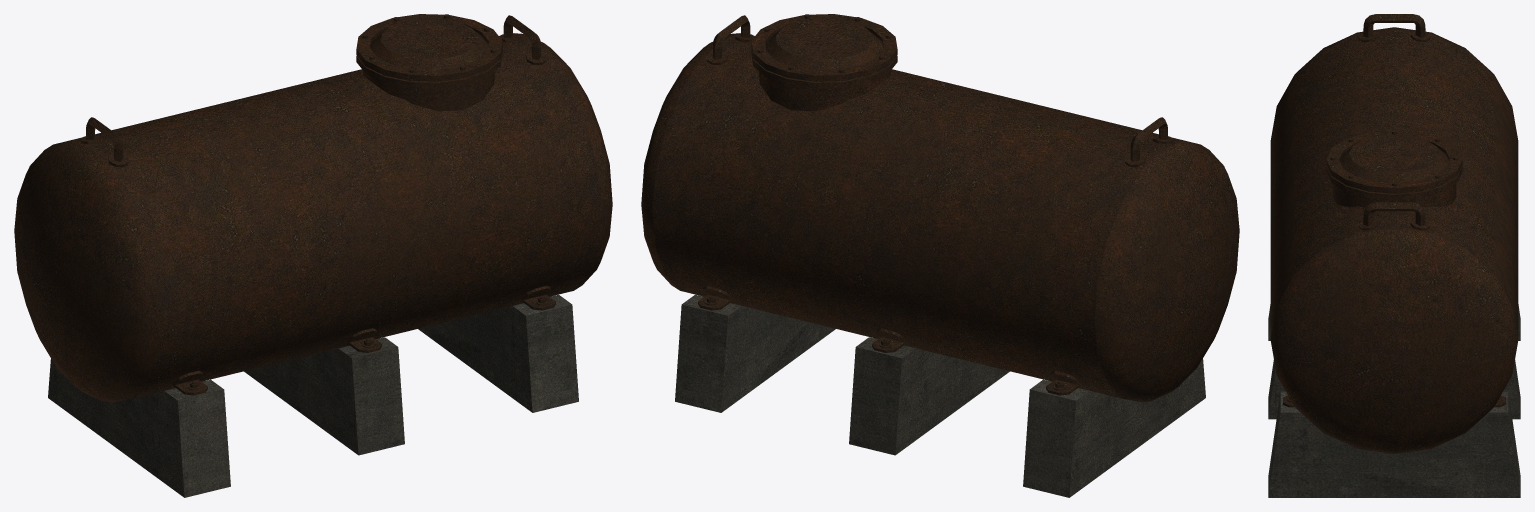
The model's file is tank_mx_1.glb.
3 views of the same model, side by side, from view 1: azimuth 30°, elevation 25°; view 2: azimuth 150°, elevation 25°; view 3: azimuth 270°, elevation 25° (orthographic). The views are drawn at different scales.
Parts seen in each view (by area): view 1: tank_mx_1; view 2: tank_mx_1; view 3: tank_mx_1.
Part boxes in pixels (box(x1,y1,x2,y2)): tank_mx_1: box(14, 14, 612, 497); tank_mx_1: box(641, 14, 1239, 497); tank_mx_1: box(1268, 14, 1520, 497).
Size of the model in its own units: 4.54 by 2.74 by 2.04.
Materials: 2 (2 with a texture image).
